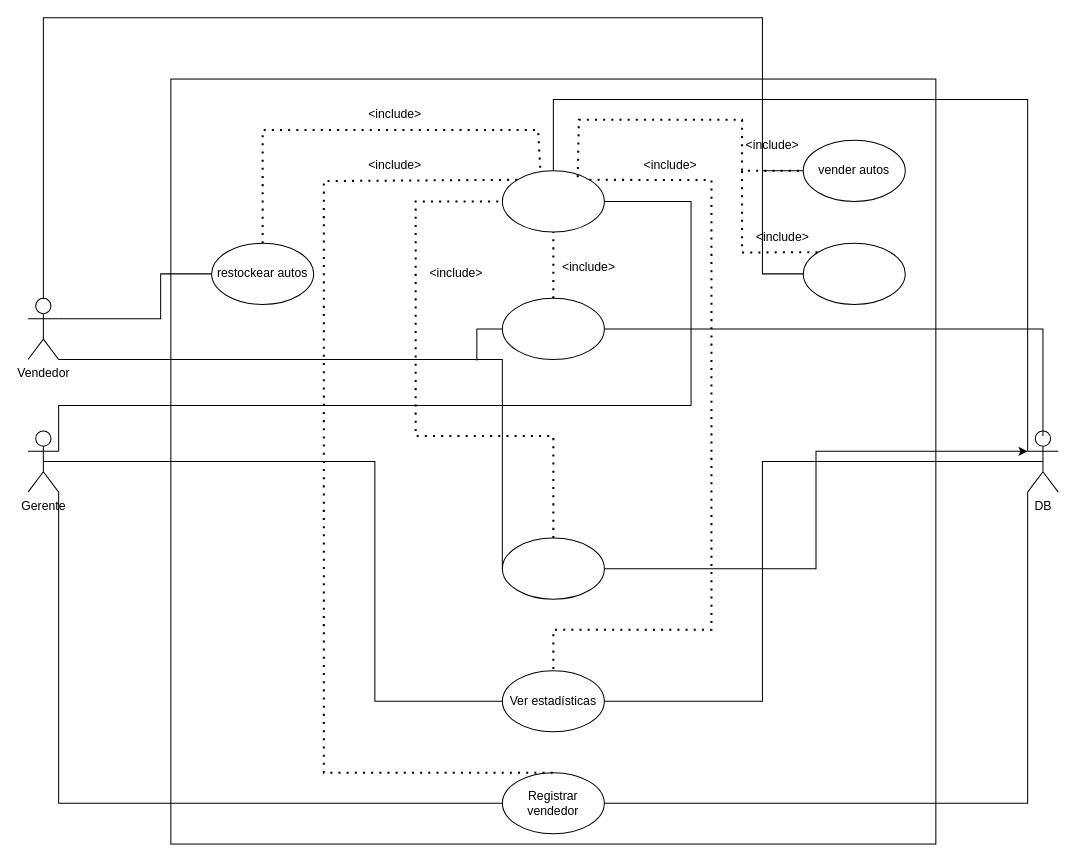
This 1076x862 diagram has some shape labels left out. Each missing label, with the centre of its shape:
"comprar autos" belongs at pixel 853 273.
"Loguear usuario" belongs at pixel 552 201.
"Registrar compra" belongs at pixel 552 568.
"Registrar venta" belongs at pixel 552 328.
